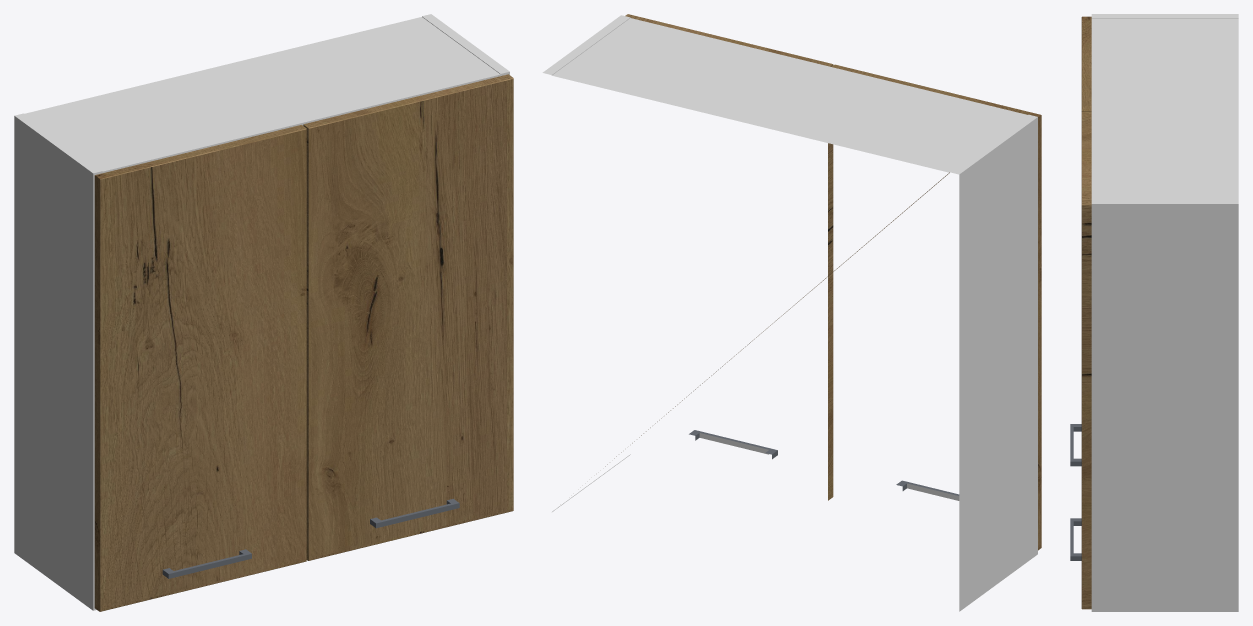
Rendered from gornji_80cm.glb.
3 views of the same model, side by side, from view 1: azimuth 30°, elevation 25°; view 2: azimuth 150°, elevation 25°; view 3: azimuth 270°, elevation 25° (orthographic). The views are drawn at different scales.
Parts seen in each view (by area): view 1: Group1; view 2: Group1; view 3: Group1.
Part boxes in pixels (<box>): Group1: <box>14,14,513,611</box>; Group1: <box>542,14,1041,611</box>; Group1: <box>1070,14,1238,611</box>.
Bounding box in the file's own units: 800 × 802 × 300.
Materials: 4 (1 with a texture image).
